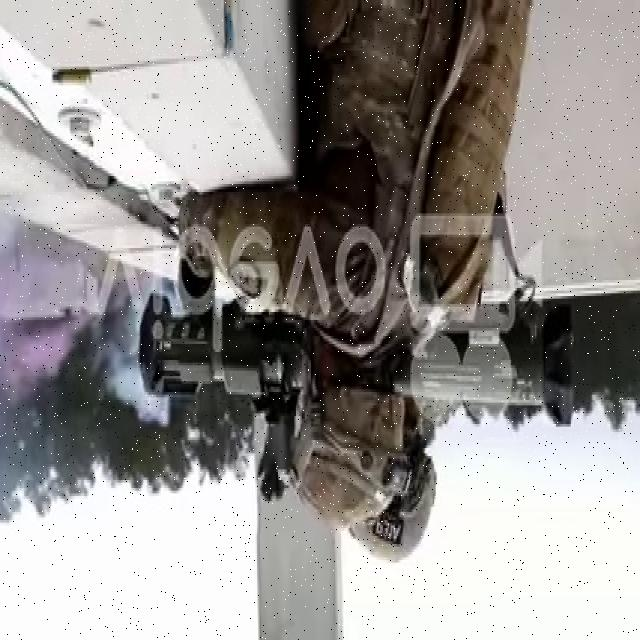bazooka: (135, 280, 583, 436)
